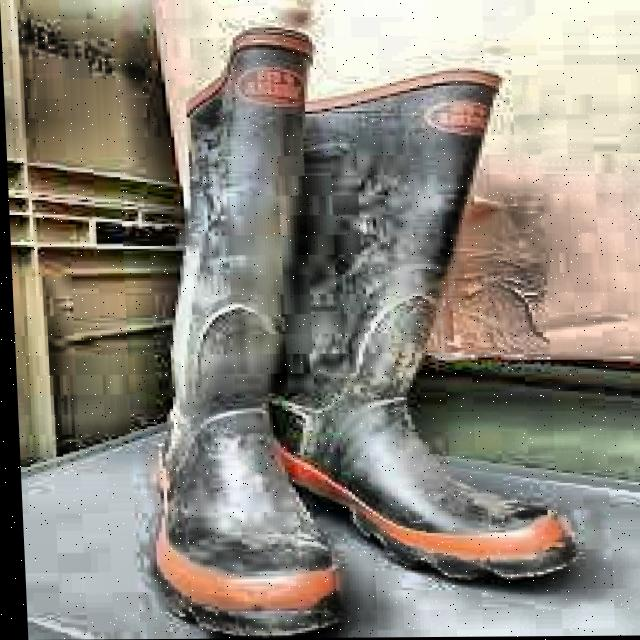shoes: (77, 15, 611, 638)
